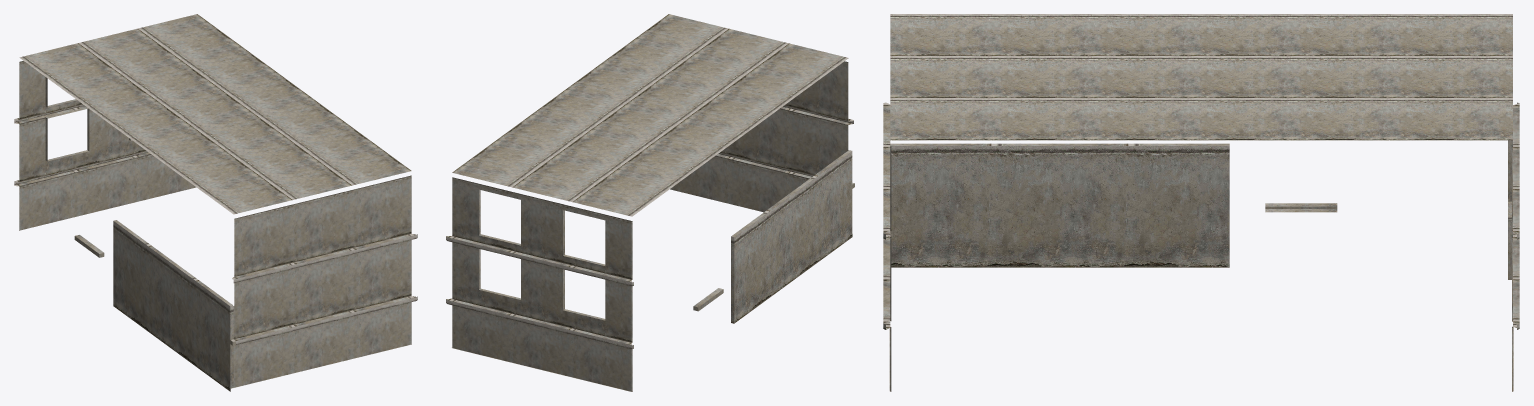
The model's file is concrete_wall_wallstuccoa_dm_0_lev1.glb.
3 renders of one model, left to right at view 1: azimuth 30°, elevation 25°; view 2: azimuth 150°, elevation 25°; view 3: azimuth 270°, elevation 25°, orthographic. The views are drawn at different scales.
Visible parts, largest first — view 1: concrete_wall_wallstuccoa_dm_0_lev1; view 2: concrete_wall_wallstuccoa_dm_0_lev1; view 3: concrete_wall_wallstuccoa_dm_0_lev1.
Boxes of the visible parts, box(x1,y1,x2,y2) form: concrete_wall_wallstuccoa_dm_0_lev1: box(14, 14, 417, 391); concrete_wall_wallstuccoa_dm_0_lev1: box(446, 14, 854, 391); concrete_wall_wallstuccoa_dm_0_lev1: box(883, 14, 1519, 391).
Size of the model in its own units: 6.76 by 6.07 by 13.68.
Materials: 1 (1 with a texture image).
